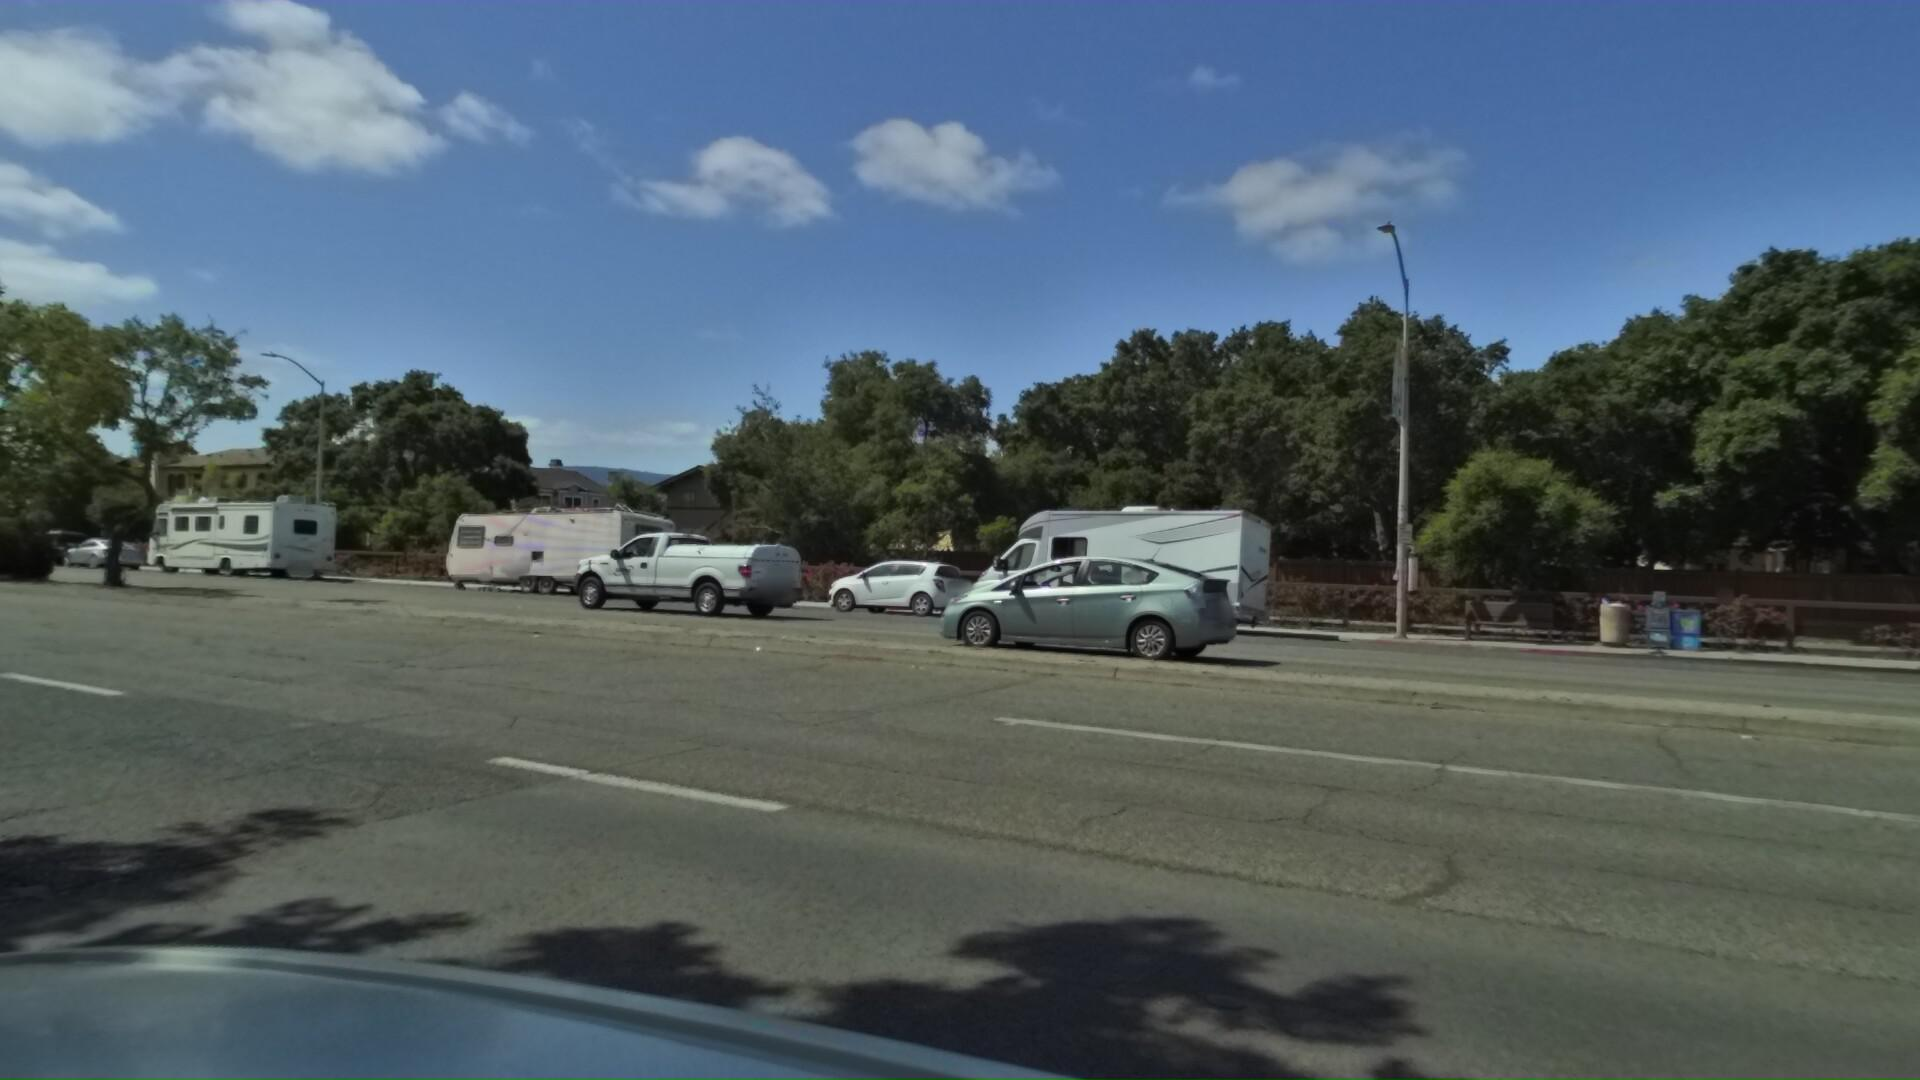car: (891, 545, 1204, 655), (542, 527, 790, 618), (822, 551, 977, 618), (663, 550, 814, 611), (15, 521, 109, 571), (62, 533, 156, 574)
other_vehicle: (949, 495, 1278, 640), (440, 495, 690, 600), (144, 484, 349, 589)
